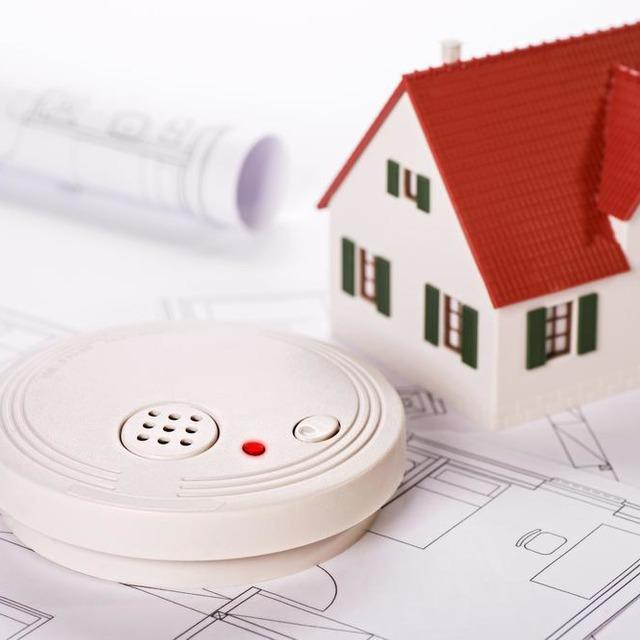Smoke-Detector: (1, 316, 412, 592)
